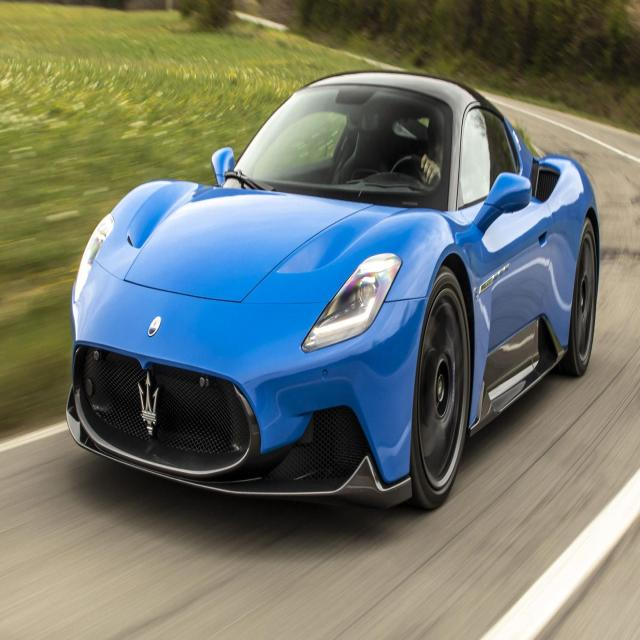cars2: (62, 55, 612, 526)
